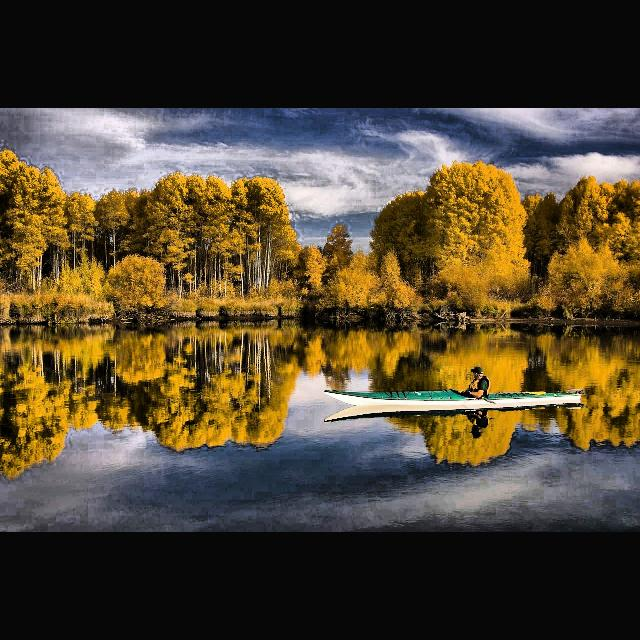kayak: (325, 388, 583, 406)
